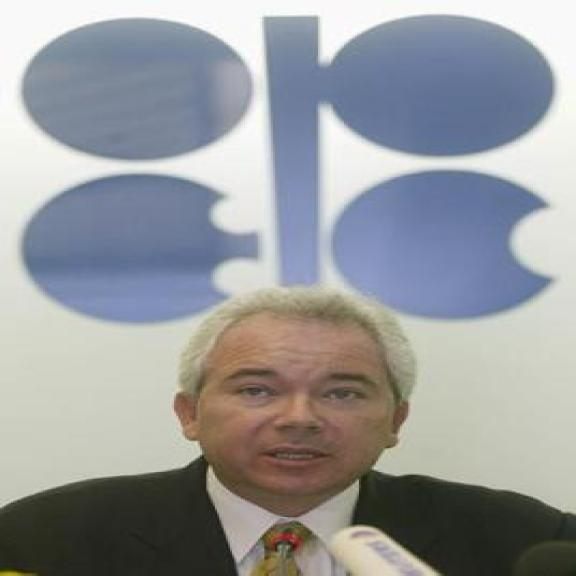face: (177, 319, 415, 499)
